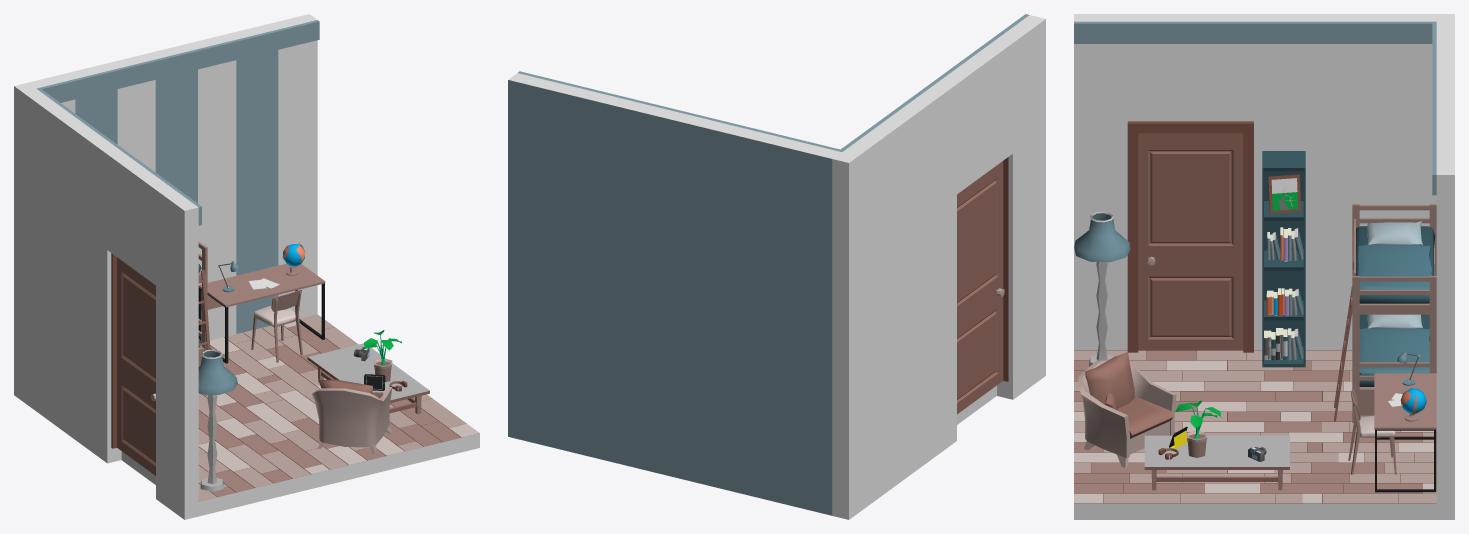
Rendered from room_8.glb.
3 renders of one model, left to right at view 1: azimuth 30°, elevation 25°; view 2: azimuth 150°, elevation 25°; view 3: azimuth 270°, elevation 25°, orthographic. The views are drawn at different scales.
Visible parts, largest first — view 1: Walls_006.024, floor_018.001, wall_016.001, Walls_116.012, Walls_006.023, door_009.001, Walls_056.003, Walls_111.001, Walls_006.025, armchair_017.001, office_table_017.006, coffee_table_019.001 (+6 smaller); view 2: Walls_116.012, Walls_006.024, Walls_006.023, door_009.001, Walls_006.025, door_010.001, Walls_111.001, Walls_111.002; view 3: Walls_006.024, floor_018.001, door_009.001, Walls_006.023, bed_023.001, Walls_056.003, Walls_116.012, Walls_006.025, Walls_111.002, armchair_017.001, door_010.001, shelf_057.001 (+11 smaller).
Boxes of the visible parts, x1,y1,x2,y2 form: Walls_006.024: [14, 82, 121, 463]; floor_018.001: [198, 314, 479, 501]; wall_016.001: [61, 40, 317, 341]; Walls_116.012: [28, 14, 316, 333]; Walls_006.023: [156, 187, 198, 519]; door_009.001: [117, 257, 155, 475]; Walls_056.003: [121, 319, 479, 516]; Walls_111.001: [36, 20, 319, 102]; Walls_006.025: [107, 151, 169, 285]; armchair_017.001: [312, 379, 392, 454]; office_table_017.006: [198, 263, 325, 363]; coffee_table_019.001: [307, 343, 429, 414]; Walls_116.012: [508, 73, 841, 515]; Walls_006.024: [833, 80, 956, 519]; Walls_006.023: [997, 15, 1045, 399]; door_009.001: [957, 161, 1004, 414]; Walls_006.025: [941, 39, 1012, 194]; door_010.001: [1003, 157, 1008, 381]; Walls_111.001: [518, 71, 843, 151]; Walls_111.002: [841, 14, 1029, 150]; Walls_006.024: [1246, 14, 1454, 350]; floor_018.001: [1074, 350, 1436, 503]; door_009.001: [1138, 133, 1243, 350]; Walls_006.023: [1074, 14, 1137, 350]; bed_023.001: [1334, 204, 1436, 422]; Walls_056.003: [1074, 350, 1436, 519]; Walls_116.012: [1436, 21, 1454, 519]; Walls_006.025: [1137, 14, 1246, 121]; Walls_111.002: [1074, 21, 1432, 43]; armchair_017.001: [1077, 352, 1176, 468]; door_010.001: [1127, 121, 1253, 352]; shelf_057.001: [1262, 151, 1305, 367].
Size of the model in its own units: 4.2 by 4.2 by 4.2.
1 material, 1 textured.
